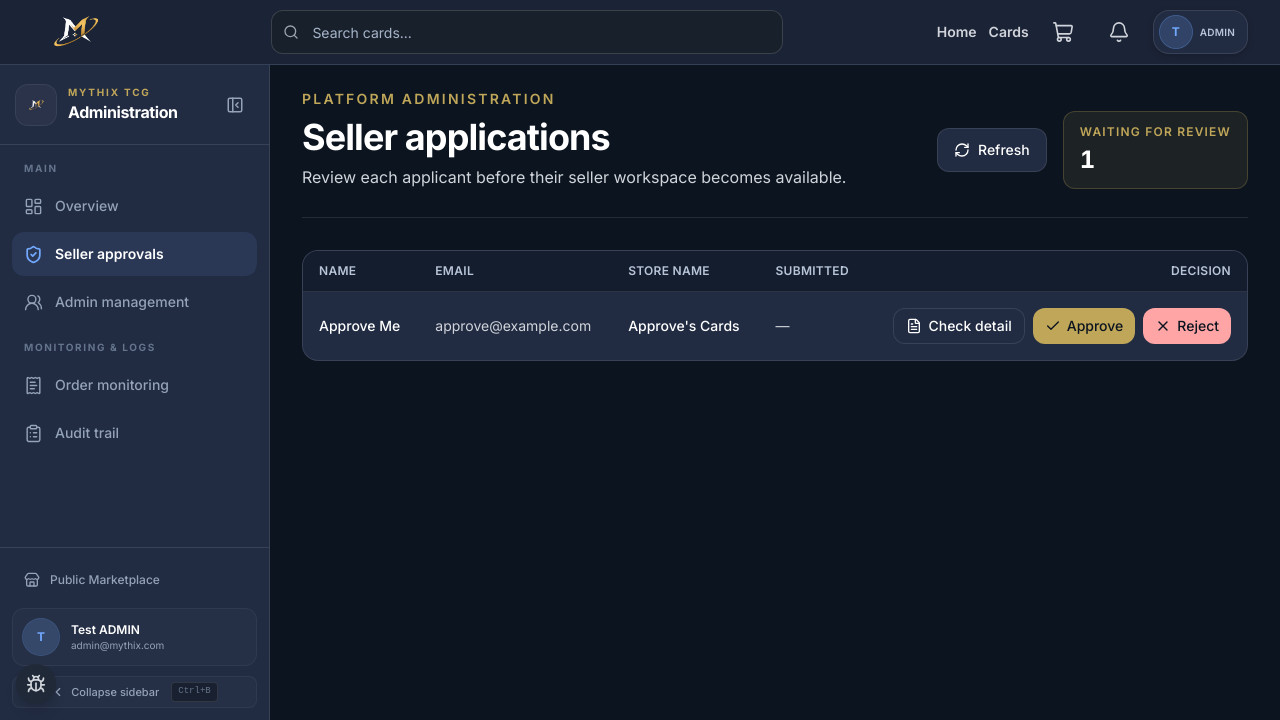
Test: US-11-3: View Seller Application Queue › should allow admin to approve a seller application
The image size is (1280, 720).
Step 1. Click the button "Approve" → (1085, 326), box [1033,308,1136,344]
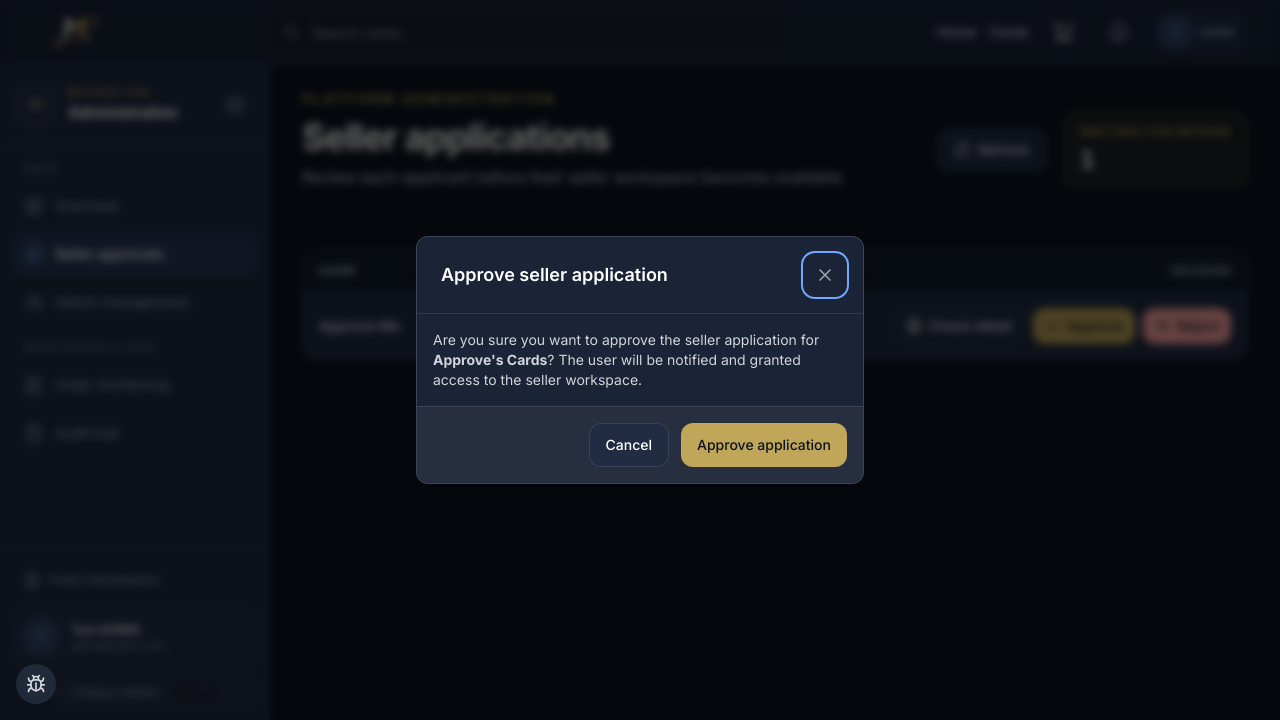
expect the heading "Approve seller application" is shown: met, box [441,261,668,289]
Step 2. Click the button "Approve application" → (764, 445), box [681,423,847,467]
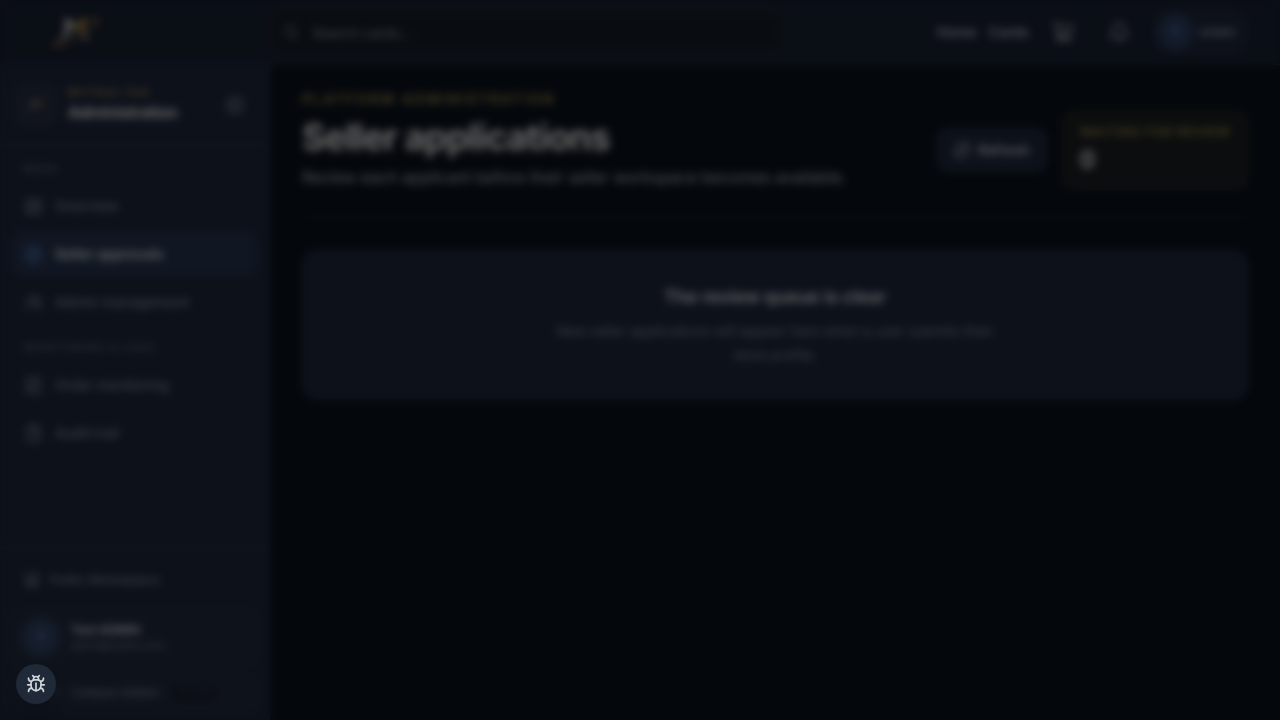
expect the table is gone: met
